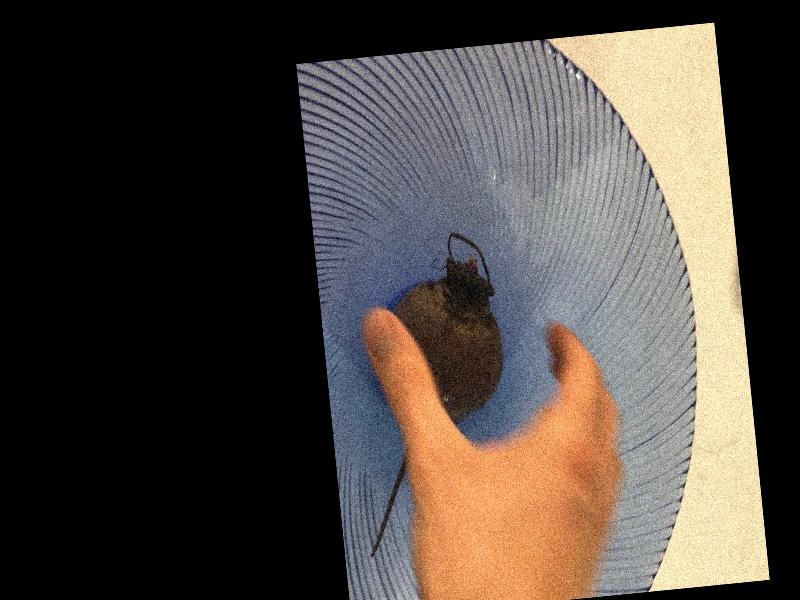Beet: (340, 229, 522, 556)
